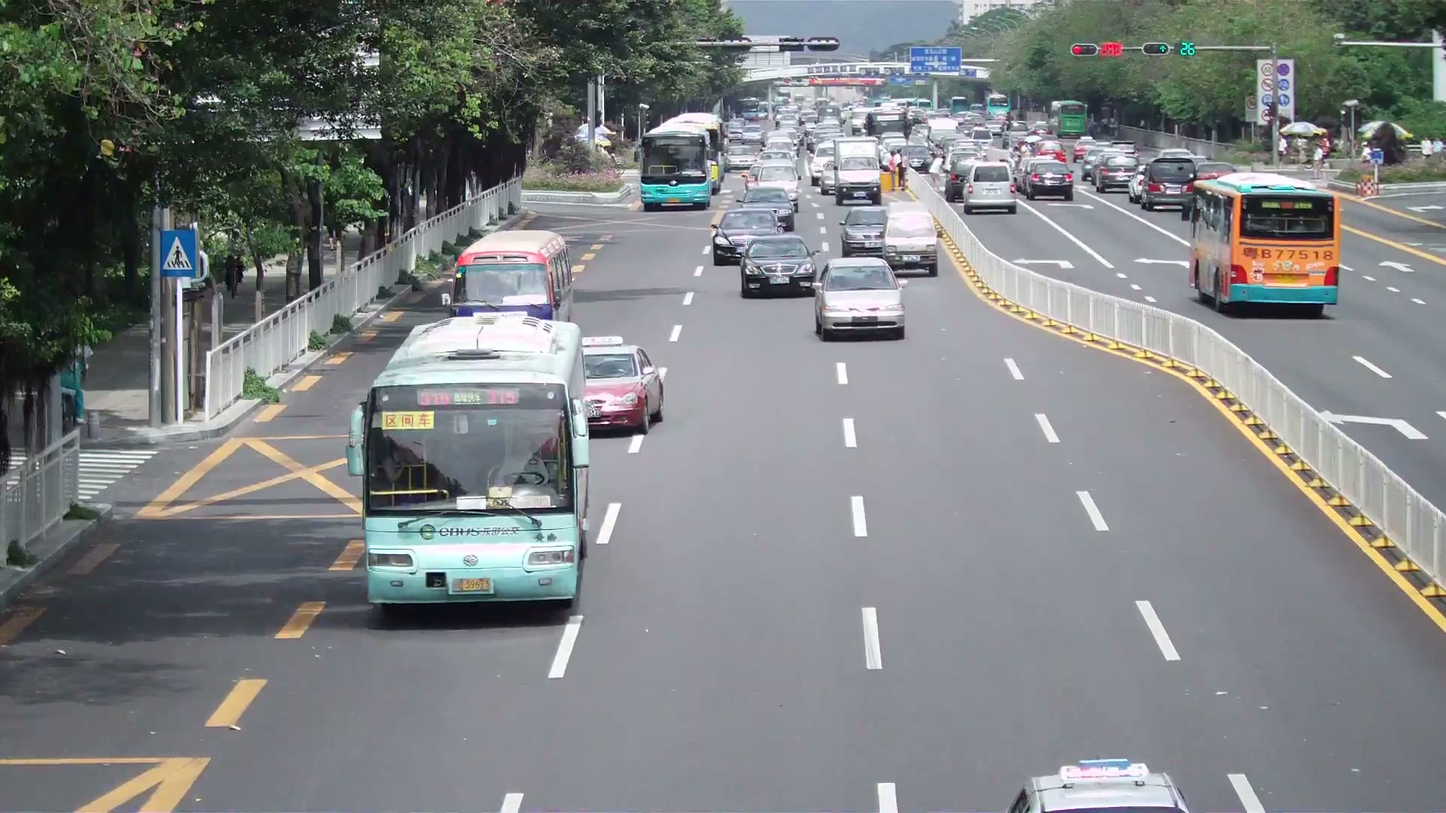bus: (359, 309, 592, 611), (1185, 173, 1342, 316), (449, 229, 573, 322), (637, 123, 716, 209)
car: (1013, 758, 1193, 811), (812, 255, 905, 342), (580, 339, 665, 434), (739, 235, 817, 298), (879, 202, 940, 277), (710, 209, 785, 266), (1131, 152, 1200, 211), (960, 162, 1017, 215), (840, 205, 889, 256)
pedestrian: (1357, 143, 1383, 196)
truck: (832, 136, 885, 203)
